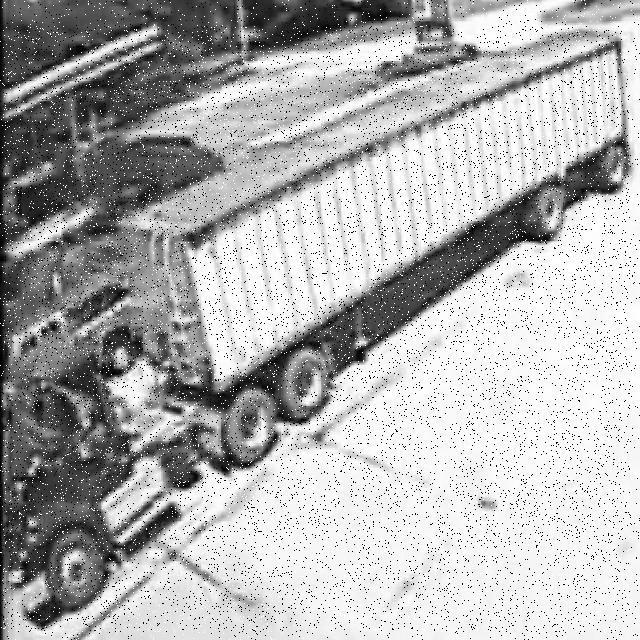Box Truck: (2, 26, 630, 632)
